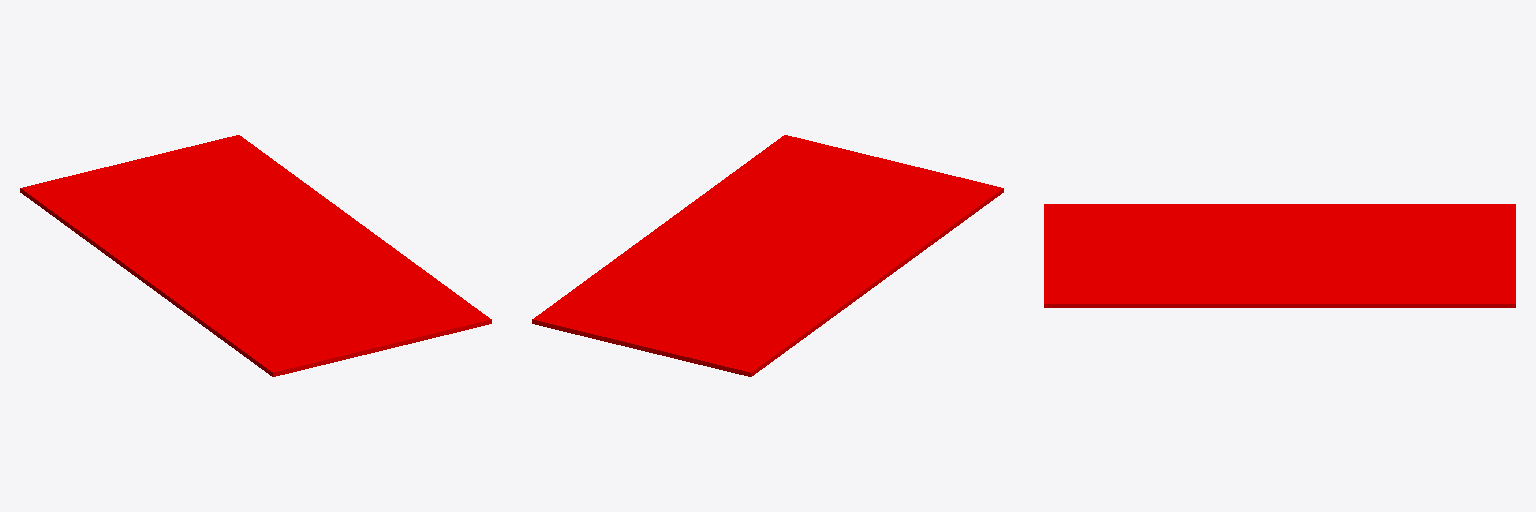
The robot description file, URDF, robot "terrain":
<robot name="terrain">
  <link name="base">
    <inertial>
<!--      <origin-->
<!--        xyz="0.5 0.0 0.0"-->
<!--      />-->
      <mass value="1.0"/>
    </inertial>
    <visual>
      <geometry>
        <box size="0.5 1.0 0.01"/>
      </geometry>
      <material name="red">
        <color rgba="1 0 0 1"/>
      </material>
      <origin xyz="0.25 0 -0.005" rpy="0 0 0"/>
    </visual>
    <collision>
      <geometry>
        <box size="0.5 1.0 0.01"/>
      </geometry>
      <origin xyz="0.25 0 -0.005" rpy="0 0 0"/>
    </collision>
  </link>
</robot>

--- Facts derived from the render (not from the file) ---
The picture shows the robot from 3 angles, left to right: view 1: azimuth 30°, elevation 25°; view 2: azimuth 150°, elevation 25°; view 3: azimuth 270°, elevation 25°; orthographic projection.
Model terrain with 1 links and 0 joints (none), rooted at base, posed every joint at zero.
Visible links, largest first — view 1: base; view 2: base; view 3: base.
Link boxes in pixels (<box>): base: <box>20,135,491,376</box>; base: <box>532,135,1003,376</box>; base: <box>1044,204,1515,307</box>.
Bounding box of the posed robot: 0.5 × 1 × 0.01 m (x, y, z).
Geometry: primitives only (box / cylinder / sphere), no mesh files.